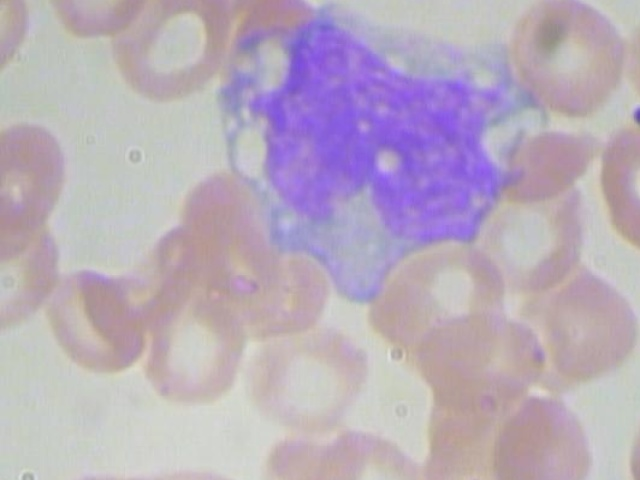RBC: (505, 0, 640, 124), (243, 315, 379, 430), (38, 261, 142, 376), (535, 269, 640, 382), (414, 310, 543, 399), (488, 394, 597, 480), (0, 205, 65, 347), (0, 118, 69, 233), (103, 461, 260, 480), (39, 470, 167, 480)
WBC: (223, 0, 548, 313)
